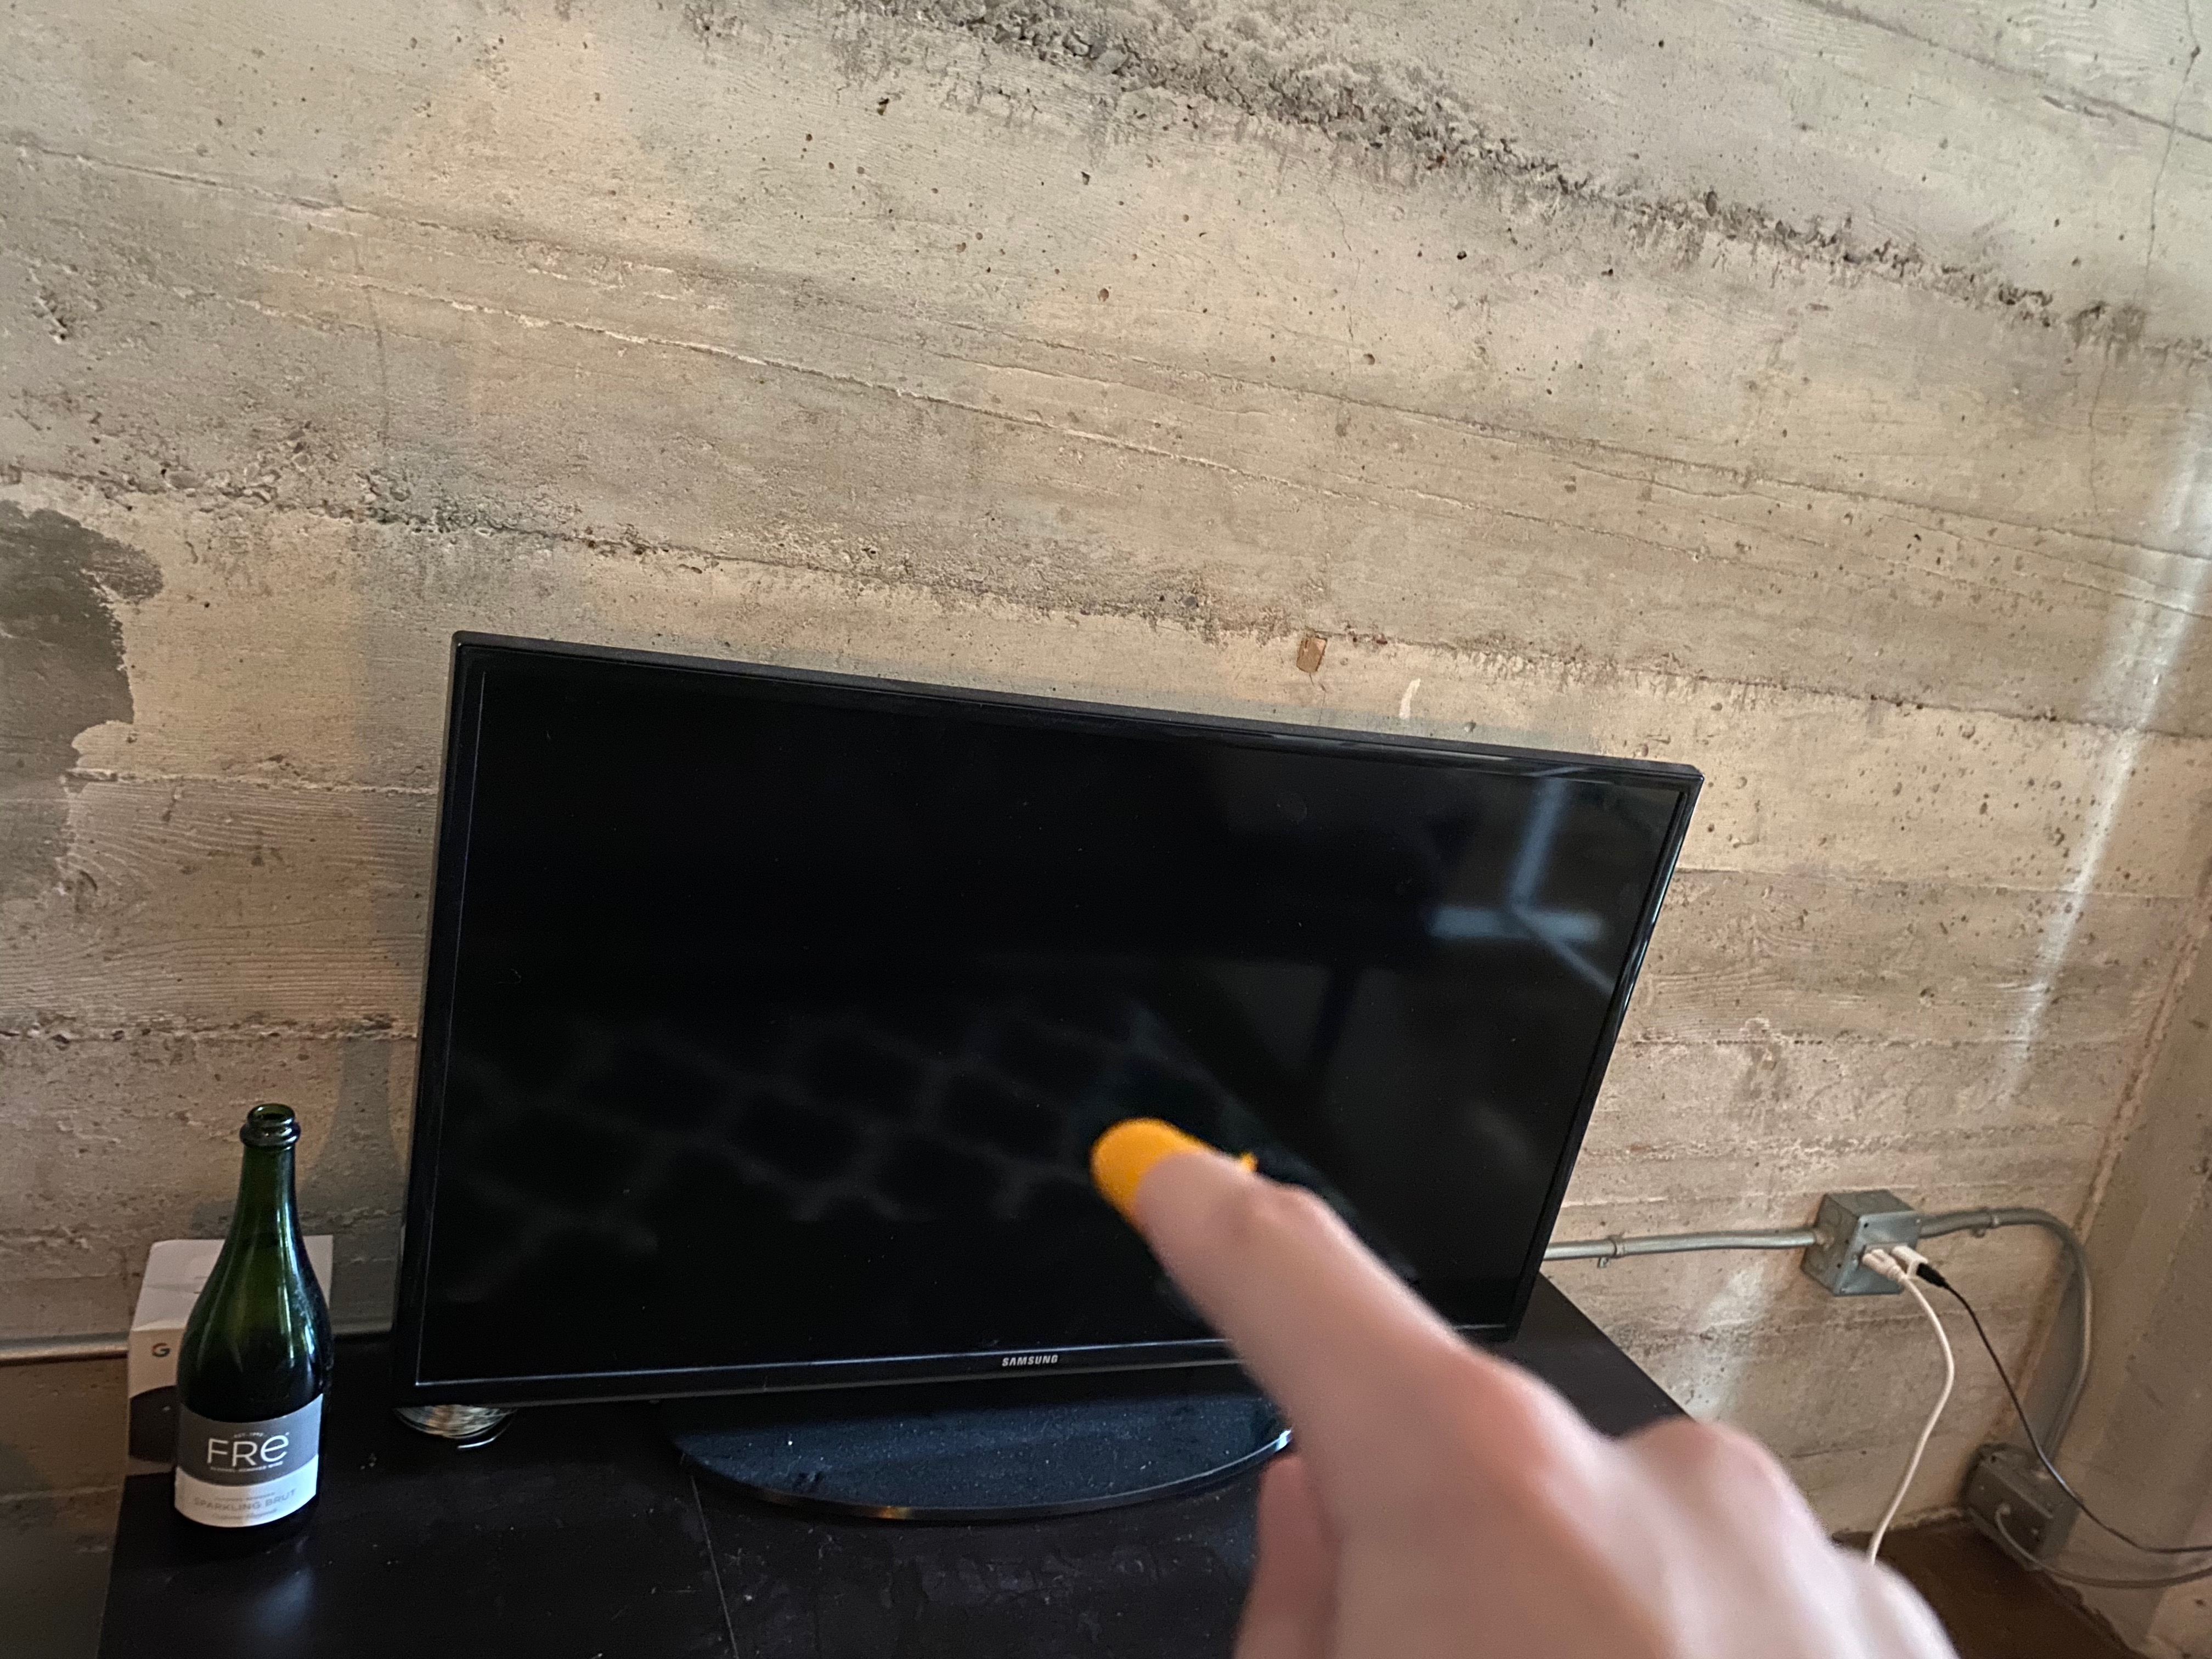fingertip: (1049, 1103, 1284, 1279)
